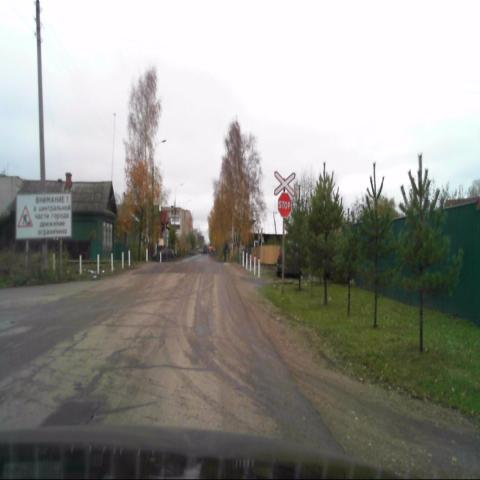2_5: (278, 193, 292, 218)
